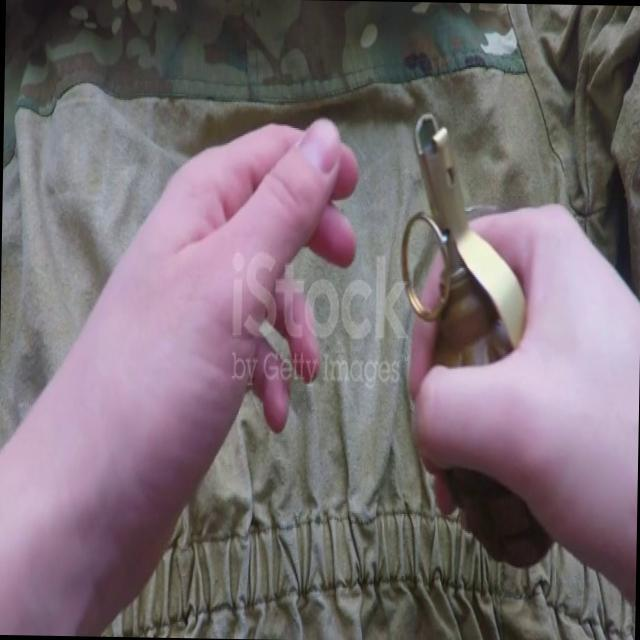grenade: (394, 116, 568, 576)
